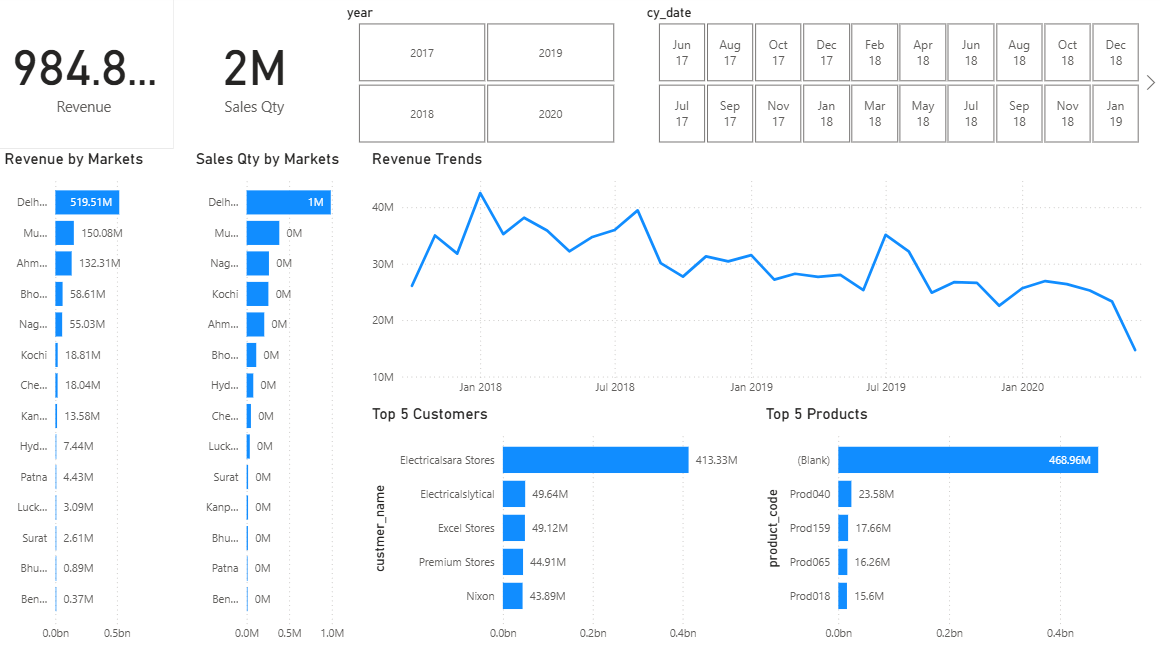

The dashboard page shown, as its layout file describes it:
{"tool":"powerbi","page":{"name":"Page 1","canvas":[1280,720],"ordinal":0},"visuals":[{"type":"card","fields":{"Values":["BaseMeasures.Revenue"]},"box":[0,0,195.7,170],"z":0},{"type":"card","fields":{"Values":["BaseMeasures.Sales Qty"]},"box":[195.7,0,177.3,170],"z":1000},{"type":"barChart","title":"Revenue by Markets","fields":{"Y":["BaseMeasures.Revenue"],"Category":["sales markets.markets_name"]},"box":[4.9,170,190.8,550.3],"z":2000},{"type":"barChart","title":"Sales Qty by Markets","fields":{"Y":["BaseMeasures.Sales Qty"],"Category":["sales markets.markets_name"]},"box":[215.2,170,193.2,550.3],"z":3000},{"type":"slicer","fields":{"Values":["sales date.year"]},"box":[373,7.3,330.2,162.6],"z":4000},{"type":"slicer","fields":{"Values":["sales date.cy_date"]},"box":[703.1,7.3,577.2,162.6],"z":5000},{"type":"barChart","title":"Top 5 Customers","fields":{"Y":["BaseMeasures.Revenue"],"Category":["sales customers.custmer_name"]},"box":[408.4,450,432.9,270.2],"z":6000},{"type":"barChart","title":"Top 5 Products","fields":{"Y":["BaseMeasures.Revenue"],"Category":["sales products.product_code"]},"box":[841.3,450,439,270.2],"z":7000},{"type":"lineChart","title":"Revenue Trends","fields":{"Y":["BaseMeasures.Revenue"],"Category":["sales date.cy_date.Variation.Date Hierarchy.Year","sales date.cy_date.Variation.Date Hierarchy.Quarter","sales date.cy_date.Variation.Date Hierarchy.Month","sales date.cy_date.Variation.Date Hierarchy.Day"]},"box":[408.4,170,871.9,280],"z":7001}]}

Visuals, with their boxes in screenshot pixels (x1, y1, x2, y2), scaled from the page's 1280x720 canvas onto the 1160x650 screenshot:
card - BaseMeasures.Revenue: (0, 0, 177, 153)
card - BaseMeasures.Sales Qty: (177, 0, 338, 153)
"Revenue by Markets" barChart: (4, 153, 177, 649)
"Sales Qty by Markets" barChart: (195, 153, 370, 649)
slicer - sales date.year: (338, 7, 637, 153)
slicer - sales date.cy_date: (637, 7, 1159, 153)
"Top 5 Customers" barChart: (370, 406, 762, 649)
"Top 5 Products" barChart: (762, 406, 1159, 649)
"Revenue Trends" lineChart: (370, 153, 1159, 406)
